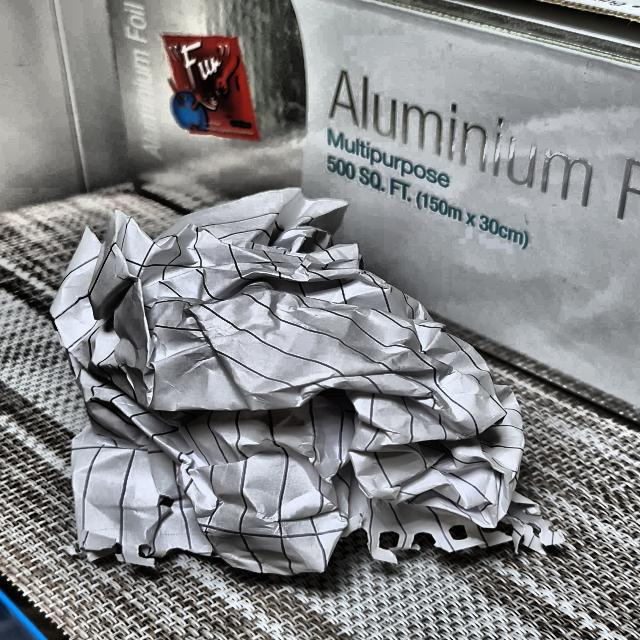paper: (54, 179, 548, 576)
